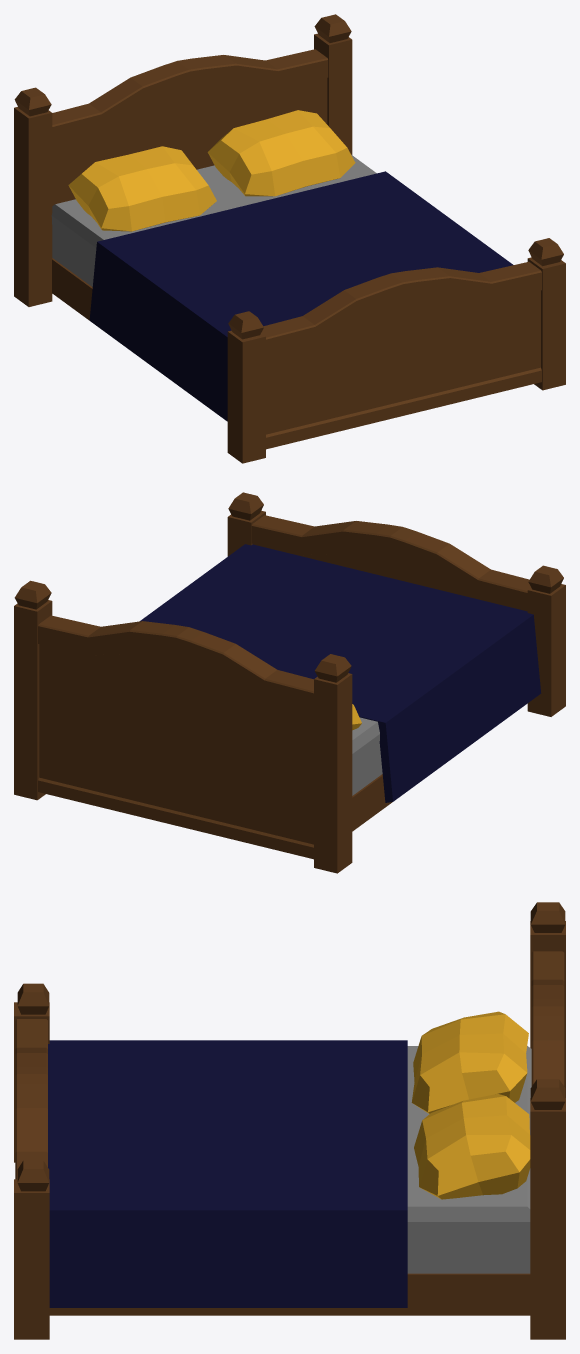
Rendered from DoubleBed1.glb.
3 views of the same model, one above another, from view 1: azimuth 30°, elevation 25°; view 2: azimuth 150°, elevation 25°; view 3: azimuth 270°, elevation 25° (orthographic). The views are drawn at different scales.
Parts seen in each view (by area): view 1: DoubleBed1, Blanked_DoubleBed1, Pillow1_DoubleBed1, Pillow2_DoubleBed1; view 2: DoubleBed1, Blanked_DoubleBed1; view 3: Blanked_DoubleBed1, DoubleBed1, Pillow2_DoubleBed1, Pillow1_DoubleBed1.
Part boxes in pixels (x1,y1,x2,y2): DoubleBed1: (14, 14, 565, 463); Blanked_DoubleBed1: (89, 171, 513, 421); Pillow1_DoubleBed1: (68, 146, 216, 231); Pillow2_DoubleBed1: (207, 110, 355, 196); DoubleBed1: (14, 492, 565, 873); Blanked_DoubleBed1: (140, 544, 541, 802); Blanked_DoubleBed1: (48, 1040, 407, 1307); DoubleBed1: (14, 902, 565, 1339); Pillow2_DoubleBed1: (414, 1094, 530, 1199); Pillow1_DoubleBed1: (411, 1011, 528, 1113).
Size of the model in its own units: 1.98 by 1.21 by 2.43.
